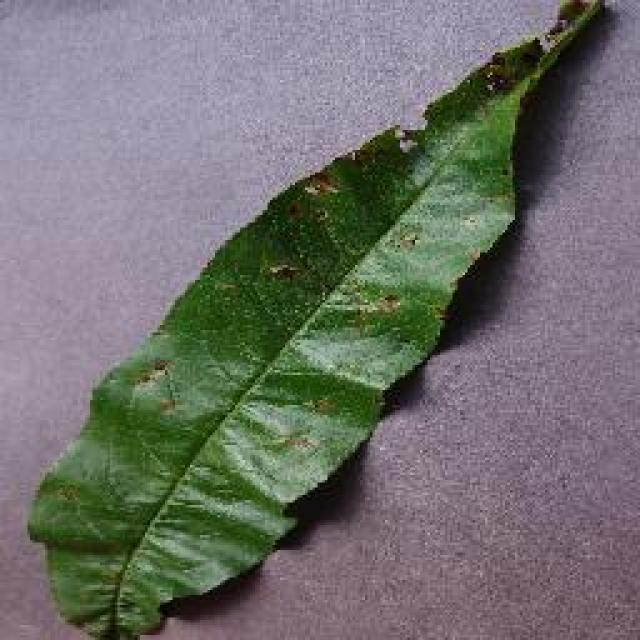Peach_Bacterial_Spot: (222, 183, 502, 480)
